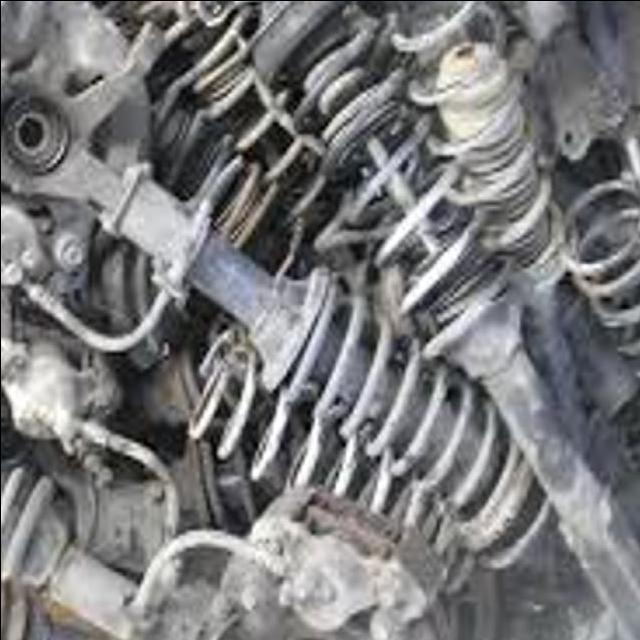shock absorber: (2, 71, 579, 591), (244, 1, 640, 637)
